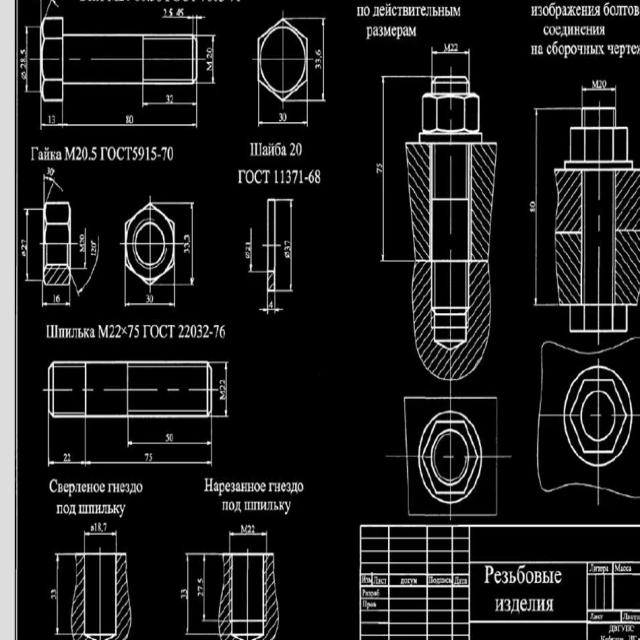marking_line: (380, 78, 387, 260), (86, 458, 211, 466), (534, 111, 539, 304), (162, 15, 210, 34), (70, 266, 92, 302), (41, 176, 63, 203), (63, 123, 196, 127), (130, 439, 210, 445), (184, 556, 190, 633), (25, 212, 31, 280), (201, 555, 207, 618), (289, 201, 293, 289), (191, 203, 195, 285), (322, 20, 326, 100), (55, 557, 59, 633), (230, 530, 267, 538), (259, 121, 307, 127), (128, 301, 174, 307), (85, 531, 116, 539), (49, 459, 85, 465), (143, 102, 196, 106), (224, 363, 228, 415), (584, 86, 615, 92), (432, 50, 469, 55), (211, 37, 214, 83), (260, 307, 284, 312)
numeric: (196, 574, 204, 600), (182, 235, 191, 255), (94, 521, 109, 533), (314, 49, 322, 70), (180, 583, 188, 602), (19, 49, 26, 69), (163, 93, 175, 104), (50, 294, 63, 304), (46, 114, 57, 125), (77, 234, 87, 246), (164, 433, 176, 443), (142, 451, 154, 461), (277, 111, 289, 121), (125, 114, 134, 127), (49, 588, 57, 602), (45, 167, 56, 177), (205, 44, 212, 59), (62, 452, 73, 461), (246, 523, 255, 534), (91, 241, 97, 257), (283, 238, 290, 251), (219, 377, 225, 390), (244, 240, 250, 251)
special_symbol: (19, 71, 26, 81), (283, 250, 290, 260), (20, 250, 26, 258), (245, 251, 250, 260)
